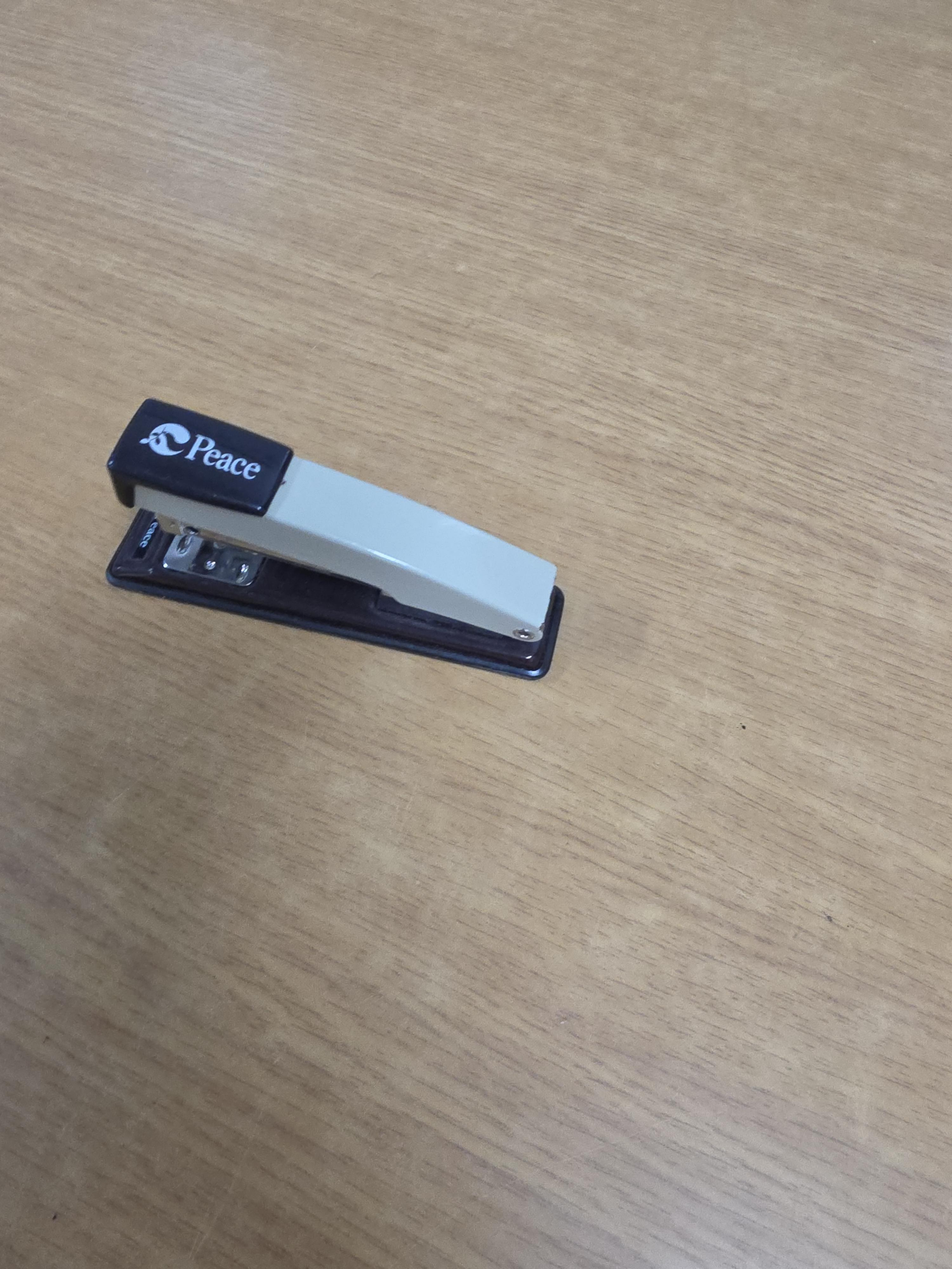stapler: (106, 399, 565, 681)
